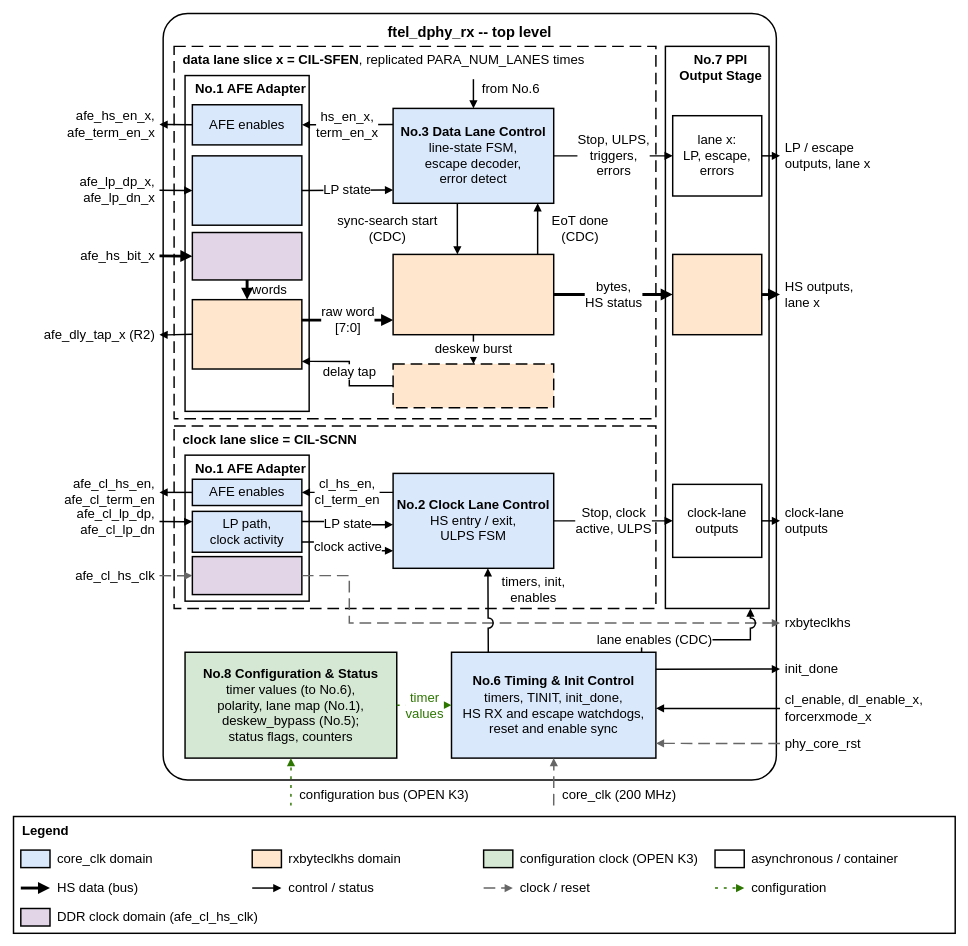
Some shapes in this 968 by 946 pixel diagram are drawn without their labels. Here are the shapes that lost their labels. From the top down, the centre of each, then its label:
At point 246,190: "LP path: sync, filter, P/N swap, lane map".
At point 246,255: "samplers, 1:8 deserializer".
At point 473,294: "No.4 HS Receive Datapath sync search, byte align, deskew detect, EoT trailer".
At point 717,294: "lane x: HS outputs, enable gating".
At point 246,334: "HS path: word register, bit inversion, lane map, delay taps".
At point 473,385: "No.5 Deskew Controller R2 only".
At point 246,575: "byte clock, /4 and gate".
